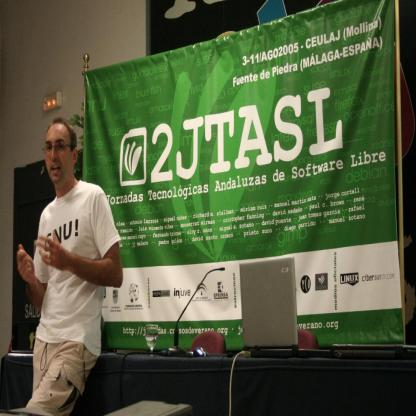board: (238, 253, 328, 358)
